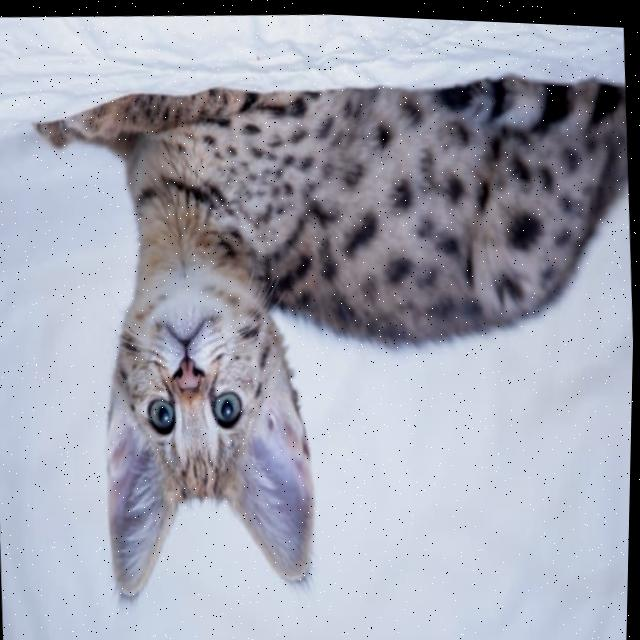Savannah: (18, 49, 639, 633)
